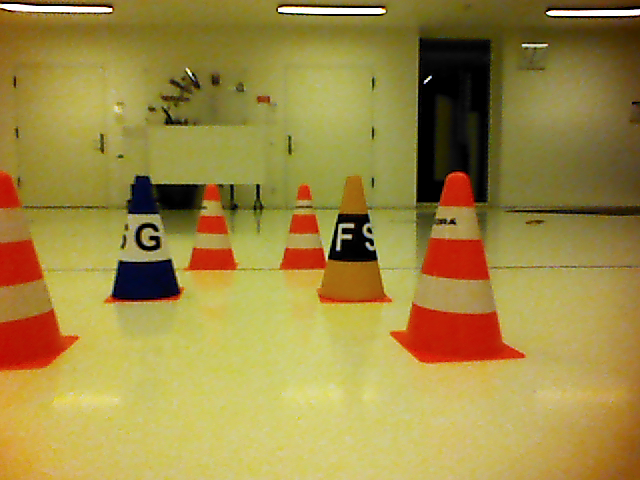bluecone: (111, 175, 181, 301)
orangeconesmall: (404, 169, 505, 355), (1, 170, 63, 368), (187, 183, 236, 268), (279, 184, 326, 270)
yellowcone: (319, 175, 387, 300)
